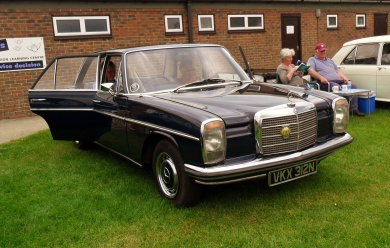car: (27, 43, 353, 209), (332, 35, 390, 102)
